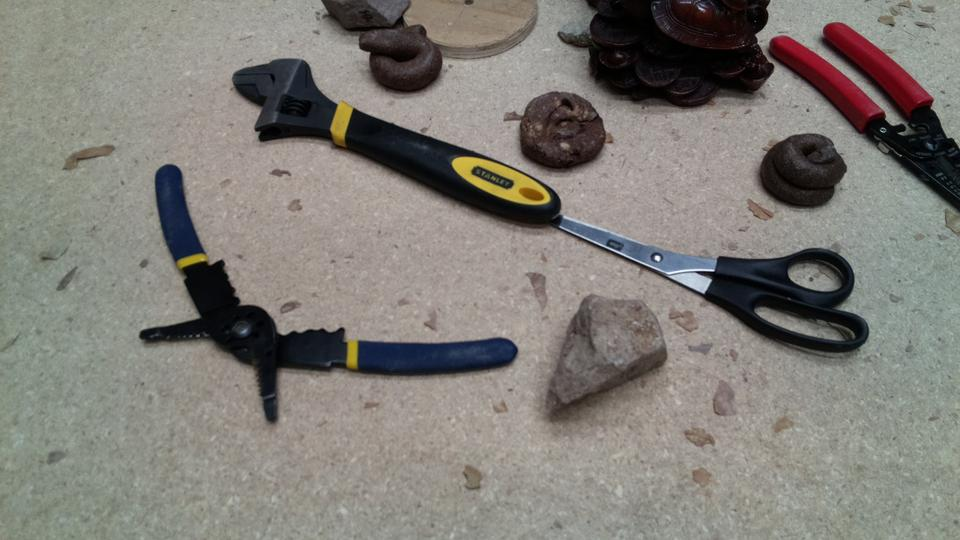poop: (515, 88, 609, 174), (757, 129, 850, 213), (358, 21, 445, 95)
